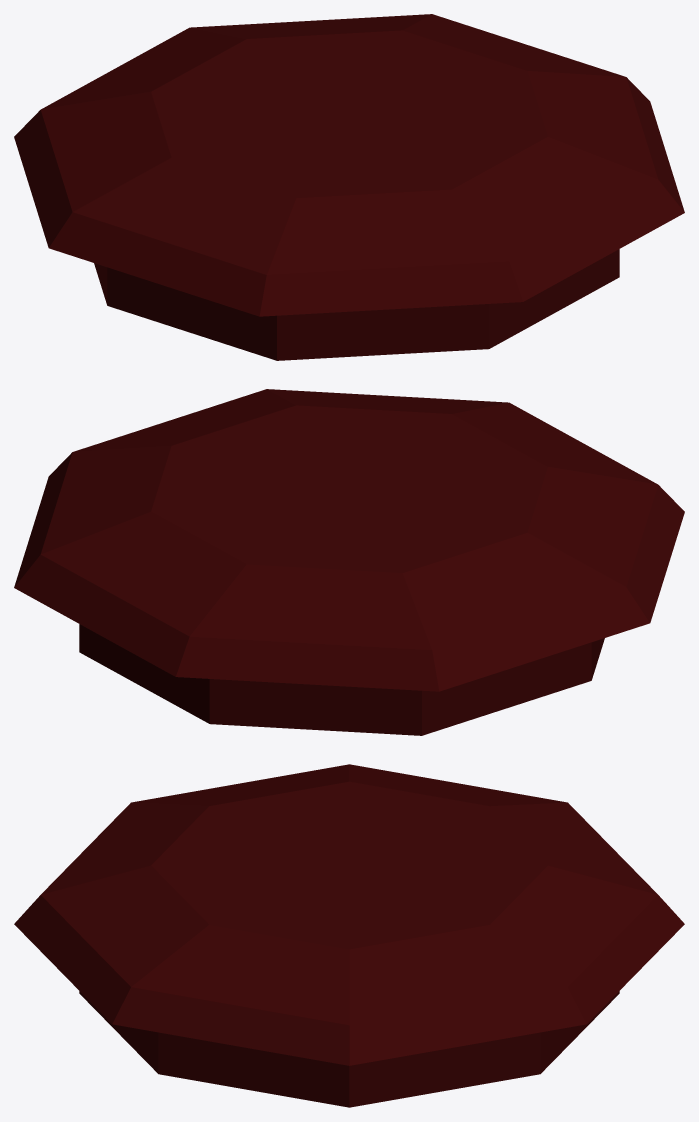
Rendered from Magnet.002.glb.
The picture shows the model from 3 angles, top to bottom: view 1: azimuth 30°, elevation 25°; view 2: azimuth 150°, elevation 25°; view 3: azimuth 270°, elevation 25°; orthographic projection. The views are drawn at different scales.
Parts seen in each view (by area): view 1: Magnet.002; view 2: Magnet.002; view 3: Magnet.002.
Boxes of the visible parts, x1,y1,x2,y2 form: Magnet.002: (14,14,684,360); Magnet.002: (14,389,684,735); Magnet.002: (14,764,684,1107).
Bounding box in the file's own units: 0.336 × 0.0707 × 0.336.
